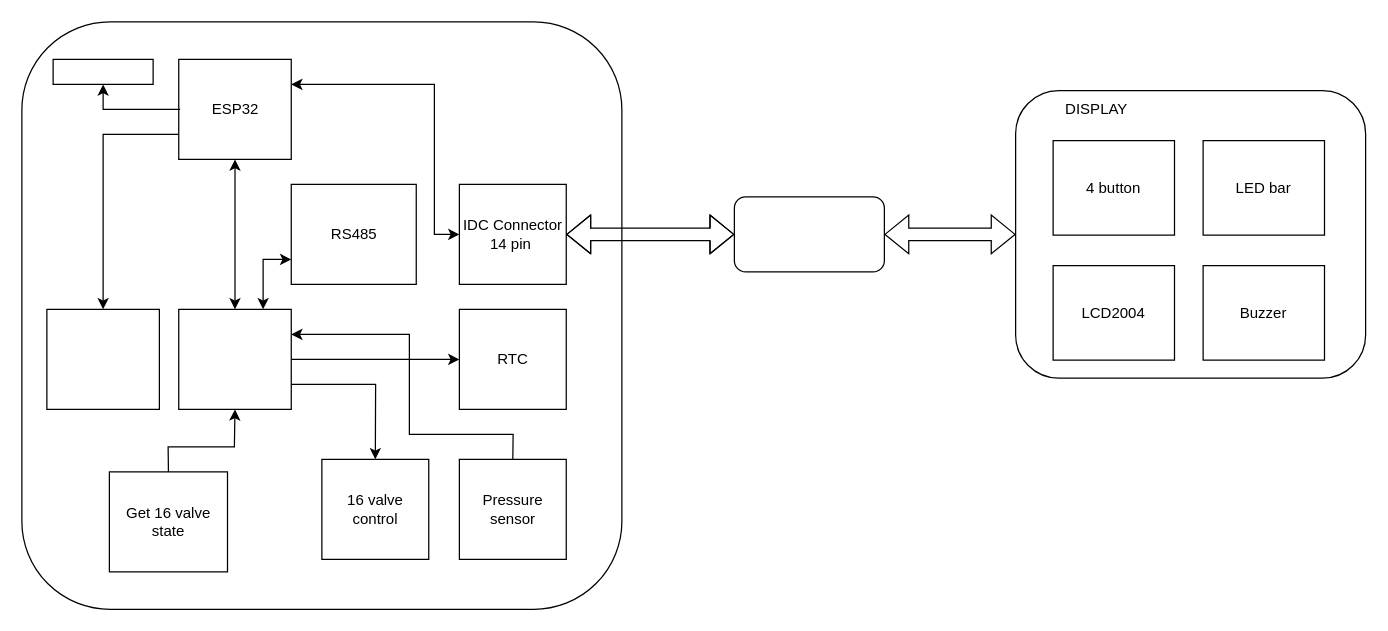
Some shapes in this 1388 by 631 pixel diagram are drawn without their labels. Each missing label, with the centre of its shape:
4-20mA: point 102,358
EEPROM: point 102,71
IDC bus 14 pin: point 808,234
STM32: point 234,358
